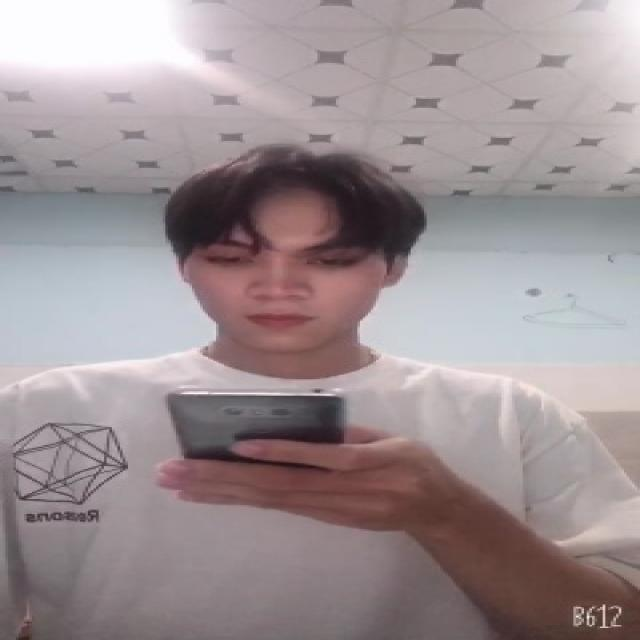Phone: (166, 382, 347, 463)
